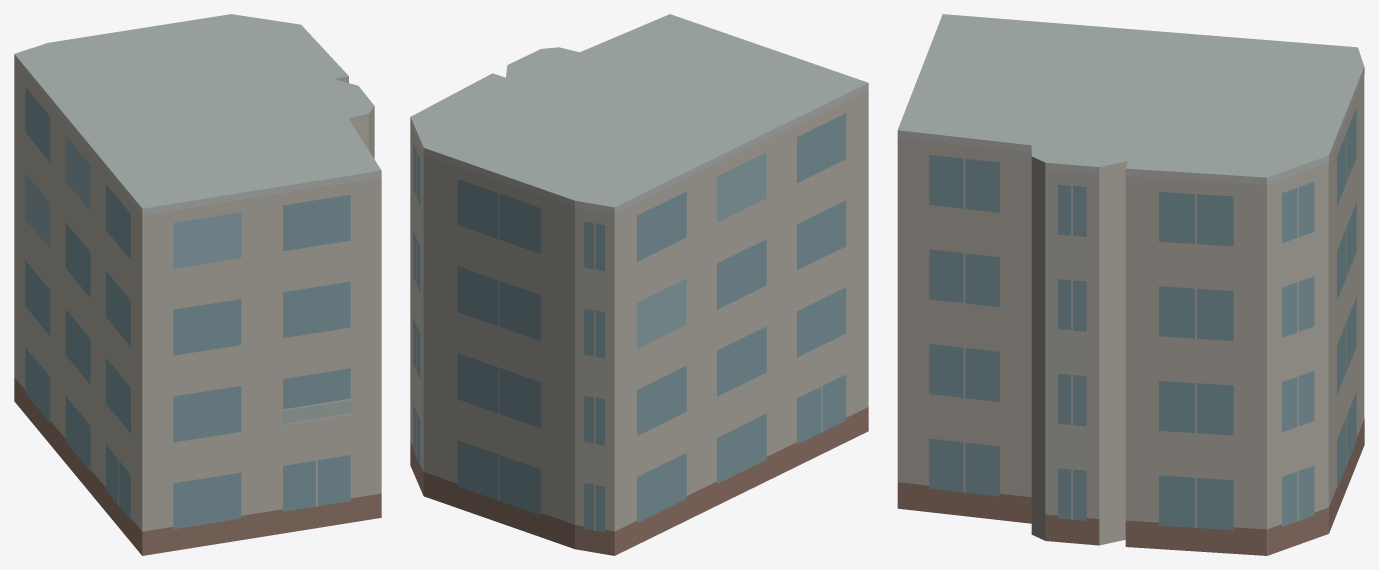
File: survey-upis-32610644.glb
3 views of the same model, side by side, from view 1: azimuth 30°, elevation 25°; view 2: azimuth 150°, elevation 25°; view 3: azimuth 270°, elevation 25° (orthographic). The views are drawn at different scales.
Parts seen in each view (by area): view 1: survey-upis-32610644.tmp; view 2: survey-upis-32610644.tmp; view 3: survey-upis-32610644.tmp.
Part boxes in pixels (left/top/right/bottom): survey-upis-32610644.tmp: left=14, top=14, right=381, bottom=555; survey-upis-32610644.tmp: left=410, top=14, right=868, bottom=555; survey-upis-32610644.tmp: left=897, top=14, right=1364, bottom=555.
Size of the model in its own units: 11.47 by 12.36 by 13.83.
